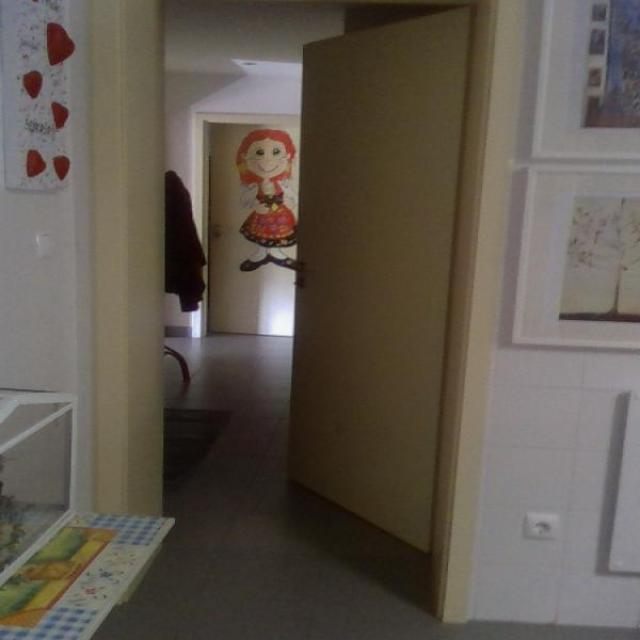Door: (290, 4, 484, 566)
